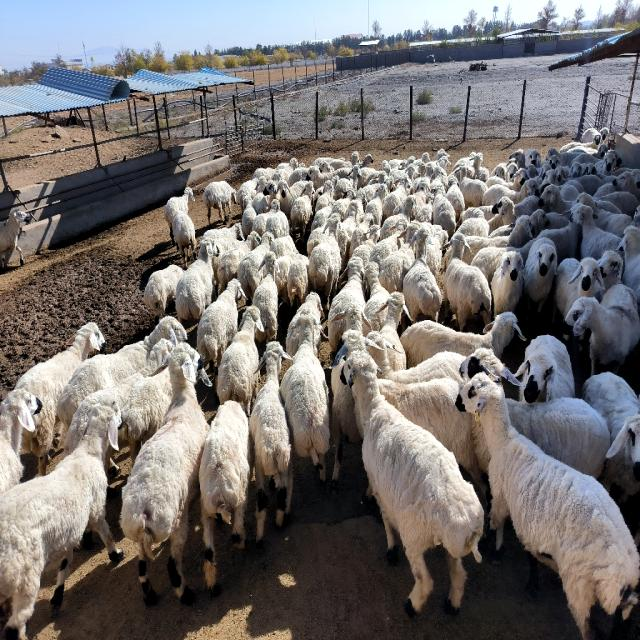sheep: (456, 373, 640, 638), (345, 348, 484, 612), (0, 407, 121, 638), (121, 343, 211, 605), (58, 317, 188, 429), (16, 322, 105, 475), (378, 378, 486, 504), (64, 333, 176, 454), (199, 400, 251, 595), (249, 342, 292, 546), (280, 308, 330, 481), (506, 398, 610, 478), (582, 372, 640, 502), (331, 330, 376, 488), (400, 312, 525, 368), (565, 283, 640, 374), (216, 307, 264, 415), (366, 332, 464, 383), (121, 368, 172, 462), (444, 233, 491, 331), (0, 388, 42, 492), (198, 278, 245, 369), (516, 335, 575, 403), (329, 257, 370, 354), (402, 227, 442, 322), (552, 257, 604, 326), (176, 240, 218, 322), (309, 213, 341, 309), (379, 220, 421, 293), (571, 207, 621, 259), (218, 232, 261, 292), (525, 238, 558, 312), (252, 252, 279, 342), (238, 233, 274, 299), (380, 292, 409, 372), (460, 348, 519, 385), (144, 265, 184, 318), (491, 252, 524, 314), (369, 218, 409, 266), (364, 262, 390, 331), (164, 187, 194, 242), (202, 182, 236, 226), (290, 182, 314, 242), (278, 180, 312, 218), (172, 212, 195, 268), (432, 187, 456, 237), (459, 167, 488, 206), (288, 255, 309, 308), (539, 185, 572, 214), (472, 423, 490, 472), (492, 197, 516, 225)
